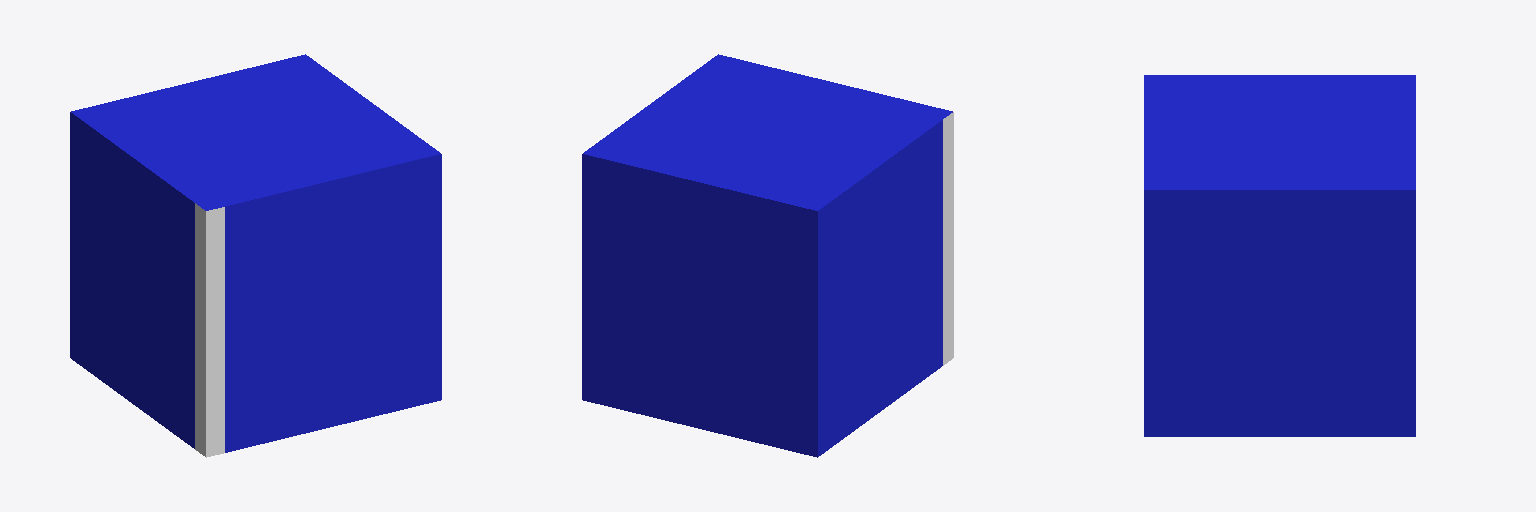
3 views of the same model, side by side, from view 1: azimuth 30°, elevation 25°; view 2: azimuth 150°, elevation 25°; view 3: azimuth 270°, elevation 25° (orthographic).
Visible parts, largest first — view 1: Cube.001; view 2: Cube.001; view 3: Cube.001.
Part boxes in pixels (x1,y1,x2,y2): Cube.001: (70,54,441,457); Cube.001: (582,54,953,457); Cube.001: (1144,75,1415,436).
Bounding box in the file's own units: 2 × 2 × 2.
Materials: 1 (1 with a texture image).